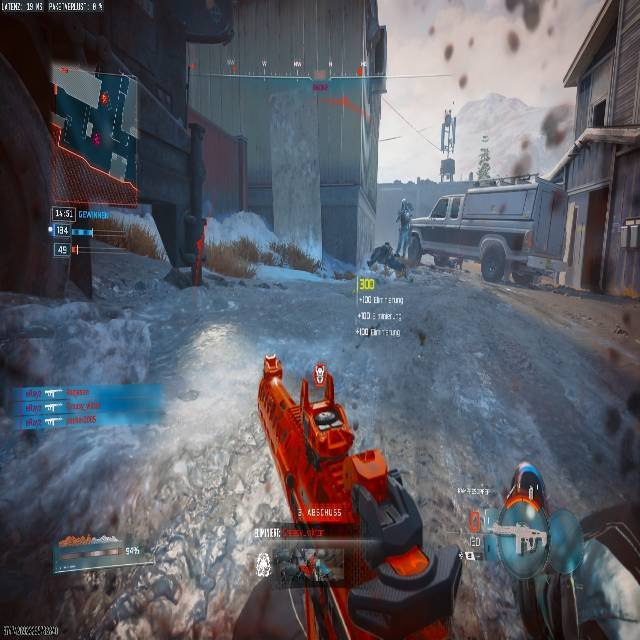player: (394, 200, 414, 253)
